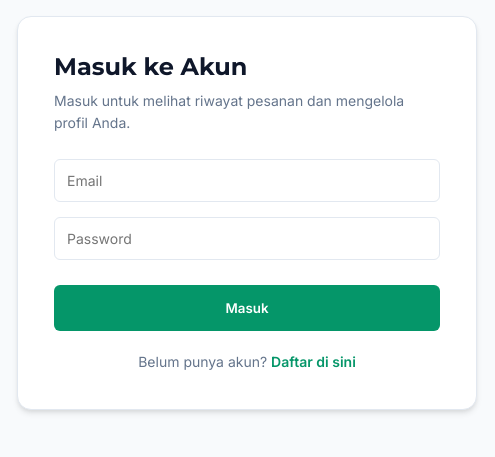
Test: Login page validation › rejects invalid email
Type "bukan-email" into the field with placeholder "Email" at coordinates (247, 180), box [54, 159, 440, 202]
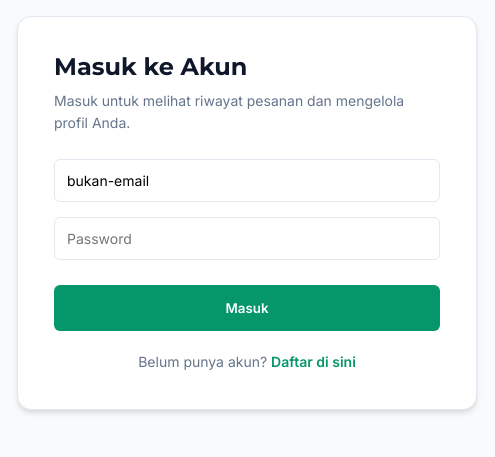
Type "rahasia123" into the password field with placeholder "Password" at coordinates (247, 238), box [54, 217, 440, 260]
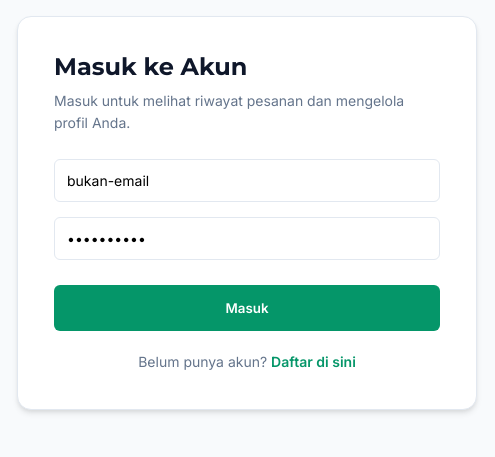
Submit the form with placeholder "Email", box [54, 159, 440, 331]
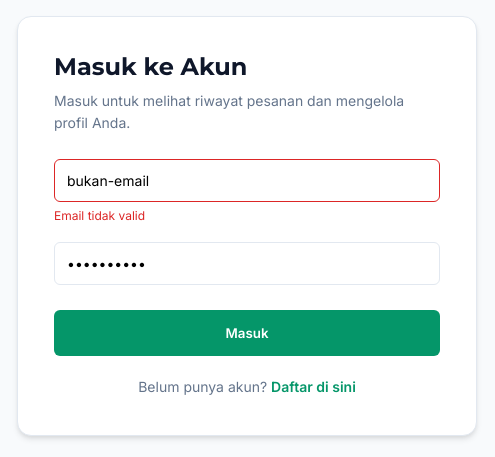
Expected: the text "Email tidak valid" is shown, [54, 208, 145, 223]
